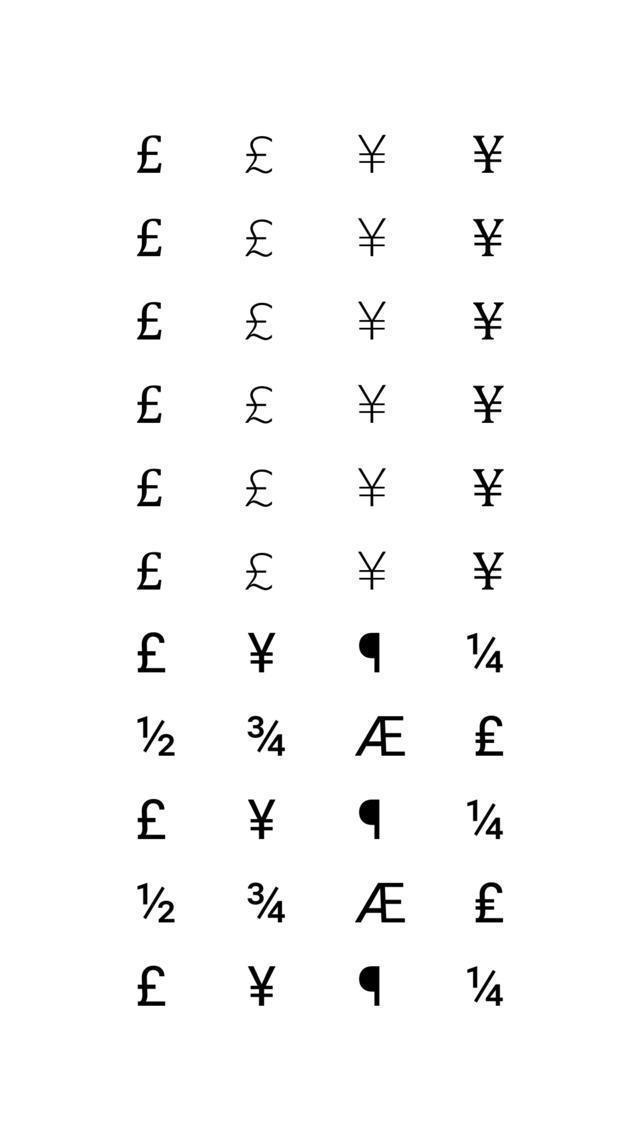ASCII: (349, 875, 412, 931), (354, 706, 411, 767), (464, 958, 509, 1021), (243, 706, 291, 764), (243, 874, 290, 931), (132, 957, 172, 1021), (464, 626, 508, 684), (135, 708, 180, 764), (136, 874, 180, 930), (242, 958, 281, 1021), (465, 793, 508, 850), (468, 122, 508, 182), (469, 872, 508, 933), (469, 375, 507, 437), (470, 709, 508, 770), (134, 791, 172, 850), (240, 296, 277, 356), (240, 211, 277, 271), (469, 208, 507, 266), (469, 459, 507, 517), (239, 378, 277, 436), (134, 626, 172, 684), (352, 125, 392, 180), (239, 125, 277, 182), (470, 542, 508, 598), (469, 290, 507, 346), (132, 210, 168, 268), (240, 460, 276, 518), (243, 627, 280, 683), (243, 790, 280, 846), (354, 460, 391, 516), (353, 212, 391, 266), (132, 379, 168, 436), (354, 378, 390, 434), (240, 547, 276, 603), (354, 544, 392, 597), (132, 460, 167, 517), (132, 547, 168, 602), (132, 126, 168, 181), (132, 294, 166, 352), (354, 294, 391, 347), (354, 957, 386, 1014), (354, 790, 384, 842), (355, 628, 384, 680)
